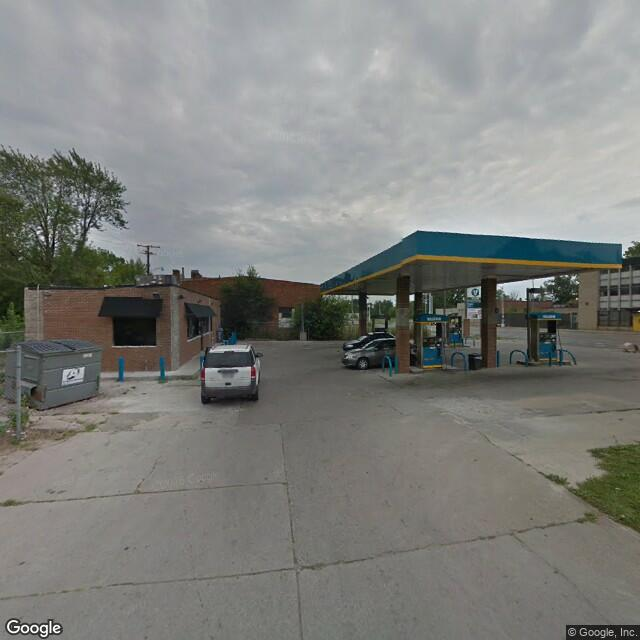litter: (17, 430, 30, 441), (4, 428, 11, 433)
